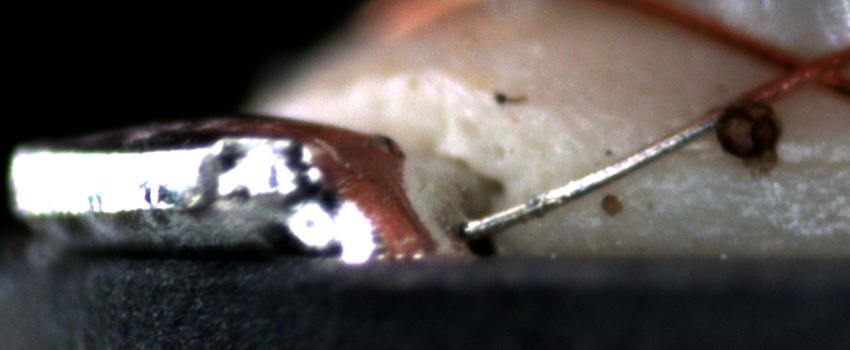CL: (762, 42, 839, 97)
DL: (737, 134, 850, 193)
TS: (460, 111, 719, 234)
